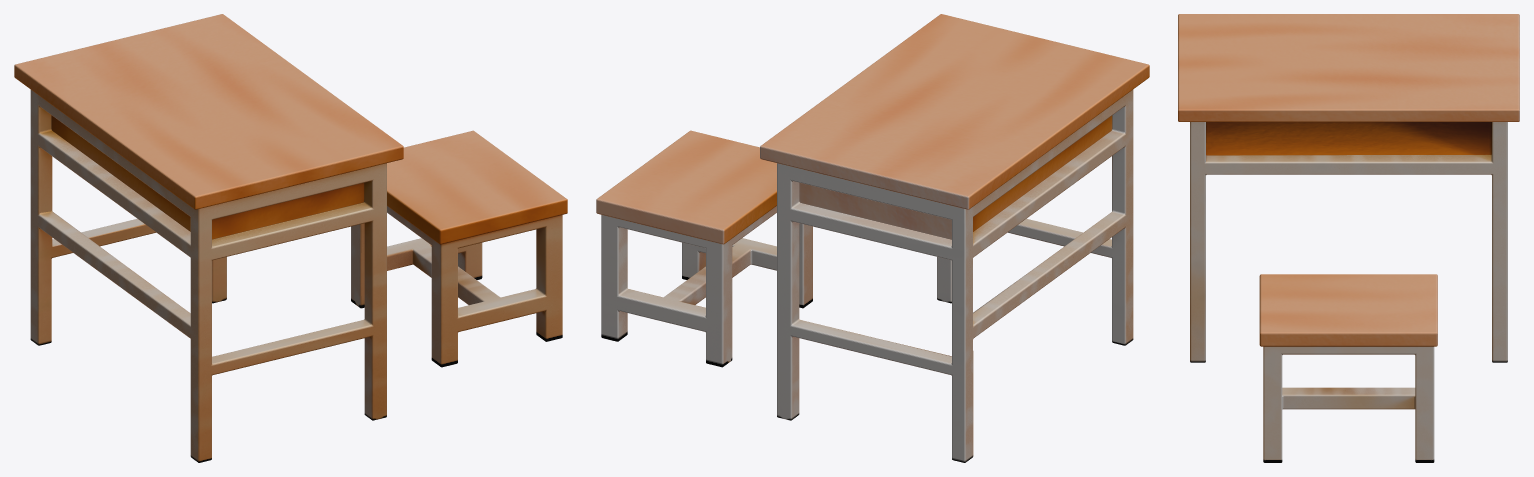
File: deskChairMini.glb
3 views of the same model, side by side, from view 1: azimuth 30°, elevation 25°; view 2: azimuth 150°, elevation 25°; view 3: azimuth 270°, elevation 25° (orthographic). The views are drawn at different scales.
Visible parts, largest first — view 1: 桌椅_Baked; view 2: 桌椅_Baked; view 3: 桌椅_Baked.
Part boxes in pixels (bbox=[...]): 桌椅_Baked: bbox=[14, 14, 567, 462]; 桌椅_Baked: bbox=[596, 14, 1149, 462]; 桌椅_Baked: bbox=[1178, 14, 1519, 462].
Bounding box in the file's own units: 1.29 × 0.8146 × 0.972.
1 material, 1 textured.
